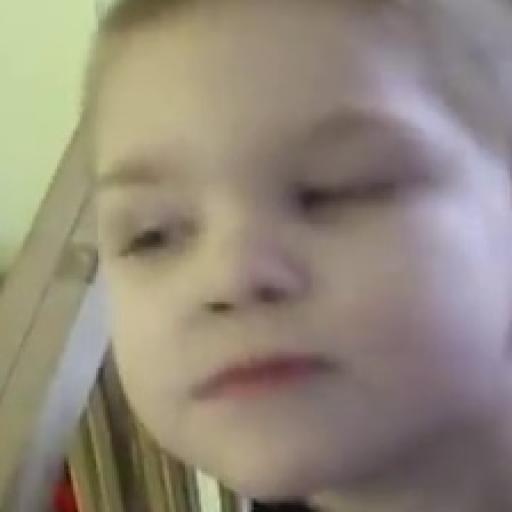Autism: (66, 11, 512, 510)
